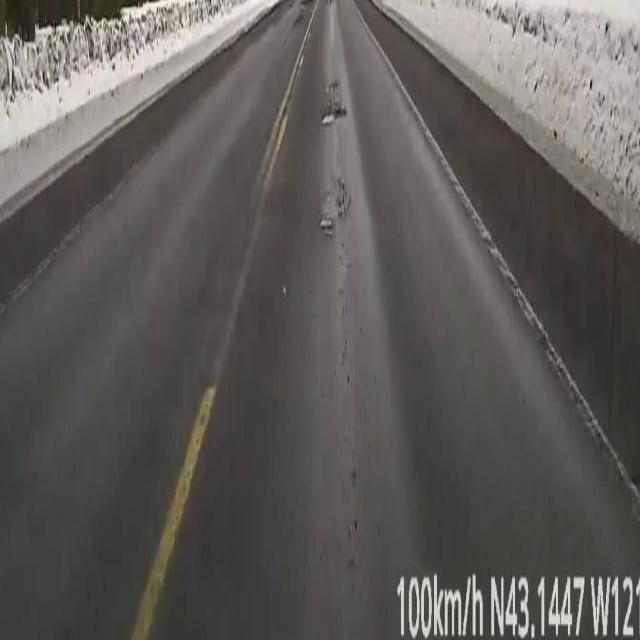pothole: (322, 104, 343, 123), (320, 210, 334, 233)
